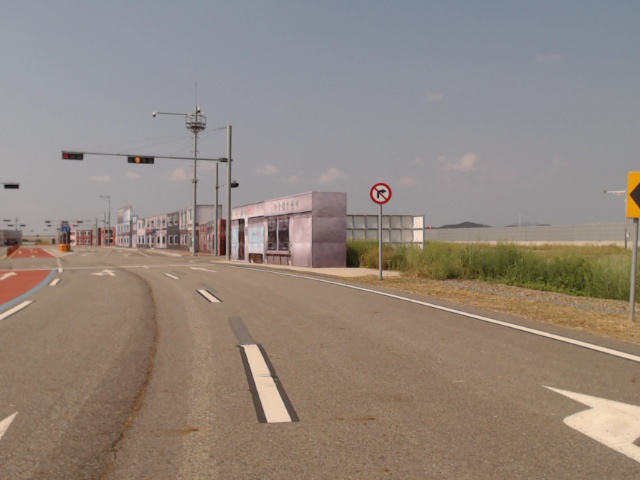orange_4: (126, 154, 158, 165)
